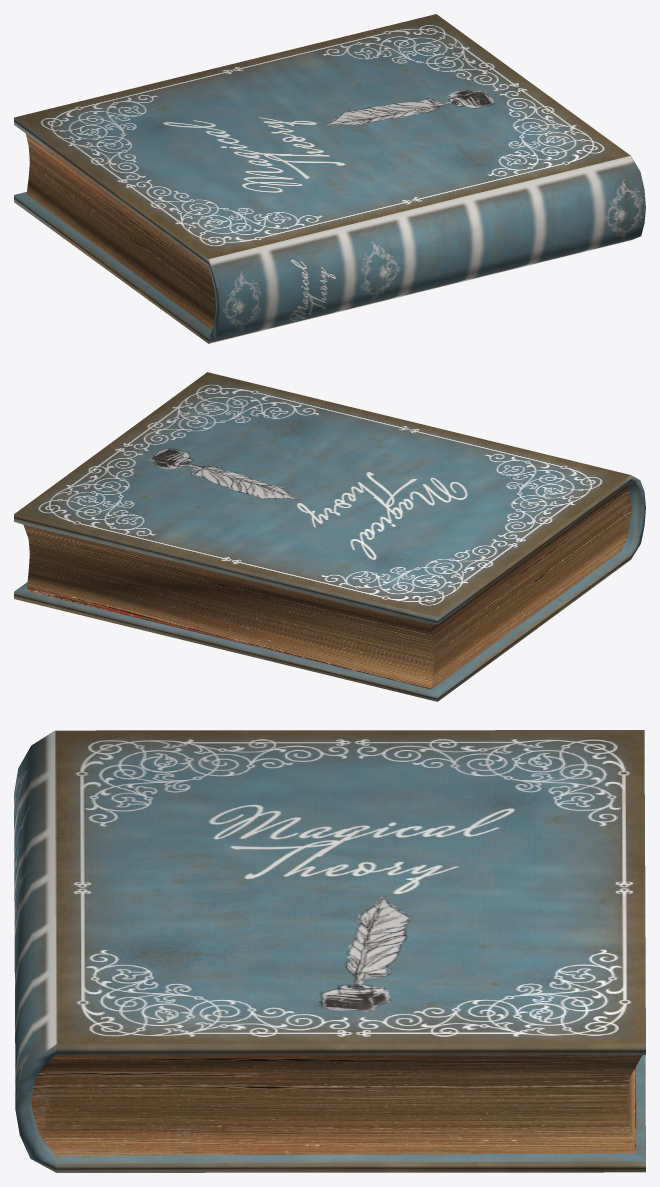
File: Book1.glb
The picture shows the model from 3 angles, top to bottom: view 1: azimuth 30°, elevation 25°; view 2: azimuth 150°, elevation 25°; view 3: azimuth 270°, elevation 25°; orthographic projection. The views are drawn at different scales.
Parts seen in each view (by area): view 1: huitugou_7019_14; view 2: huitugou_7019_14; view 3: huitugou_7019_14.
Part boxes in pixels (x1,y1,x2,y2): huitugou_7019_14: (14,14,645,343); huitugou_7019_14: (14,372,645,701); huitugou_7019_14: (14,730,645,1172).
Size of the model in its own units: 0.5306 by 0.1007 by 0.4484.
Materials: 1 (1 with a texture image).
